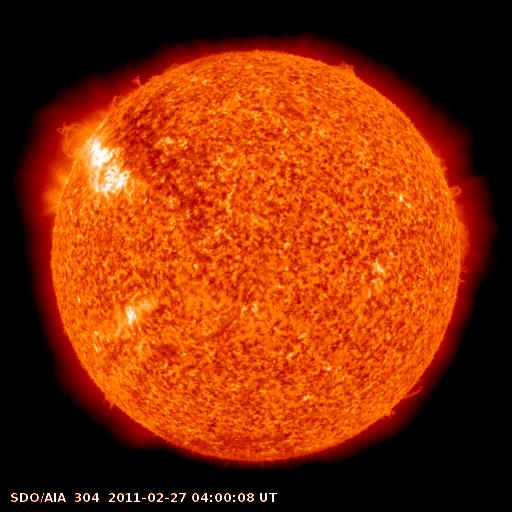prominence: (103, 60, 164, 119), (318, 46, 373, 90)
